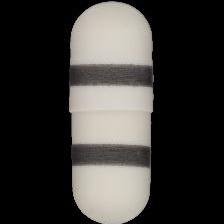0781-2074: (0, 0, 224, 224)
